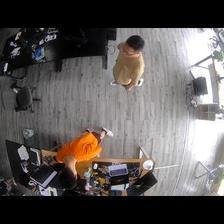normal: (57, 127, 111, 188), (111, 34, 146, 91)
